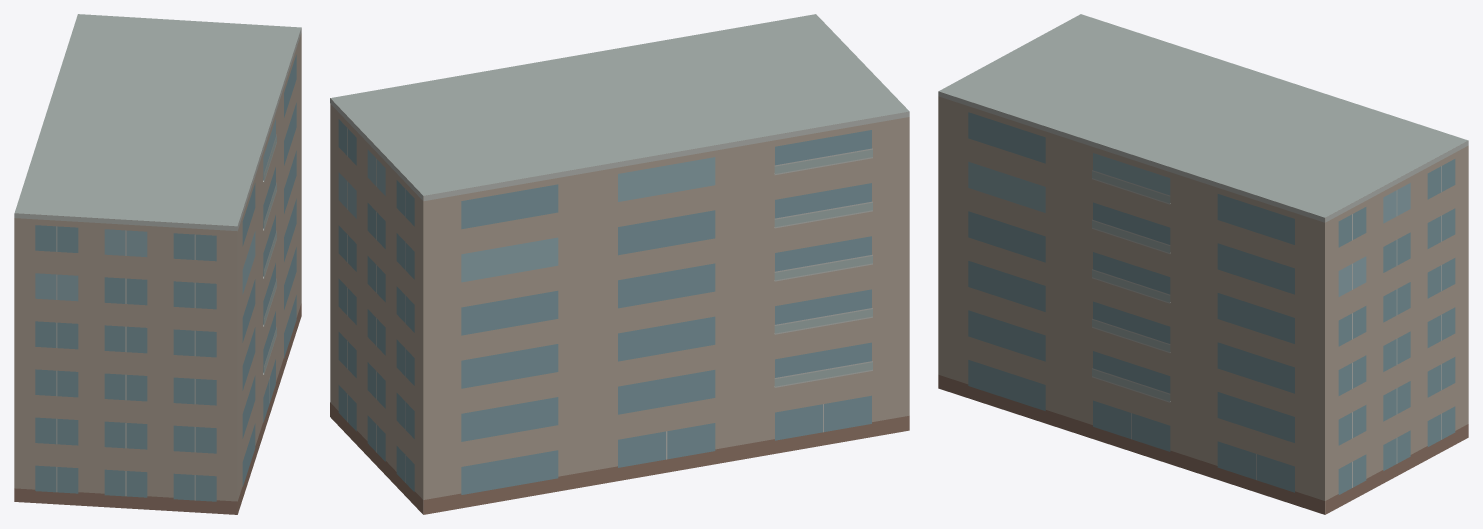
File: survey-upis-32657211.glb
The picture shows the model from 3 angles, left to right: view 1: azimuth 30°, elevation 25°; view 2: azimuth 150°, elevation 25°; view 3: azimuth 270°, elevation 25°; orthographic projection. The views are drawn at different scales.
Visible parts, largest first — view 1: survey-upis-32657211.tmp; view 2: survey-upis-32657211.tmp; view 3: survey-upis-32657211.tmp.
Part boxes in pixels (bbox=[...]): survey-upis-32657211.tmp: bbox=[14, 14, 301, 514]; survey-upis-32657211.tmp: bbox=[330, 14, 909, 514]; survey-upis-32657211.tmp: bbox=[938, 14, 1468, 514].
Bounding box in the file's own units: 21.26 × 14.45 × 23.37.
